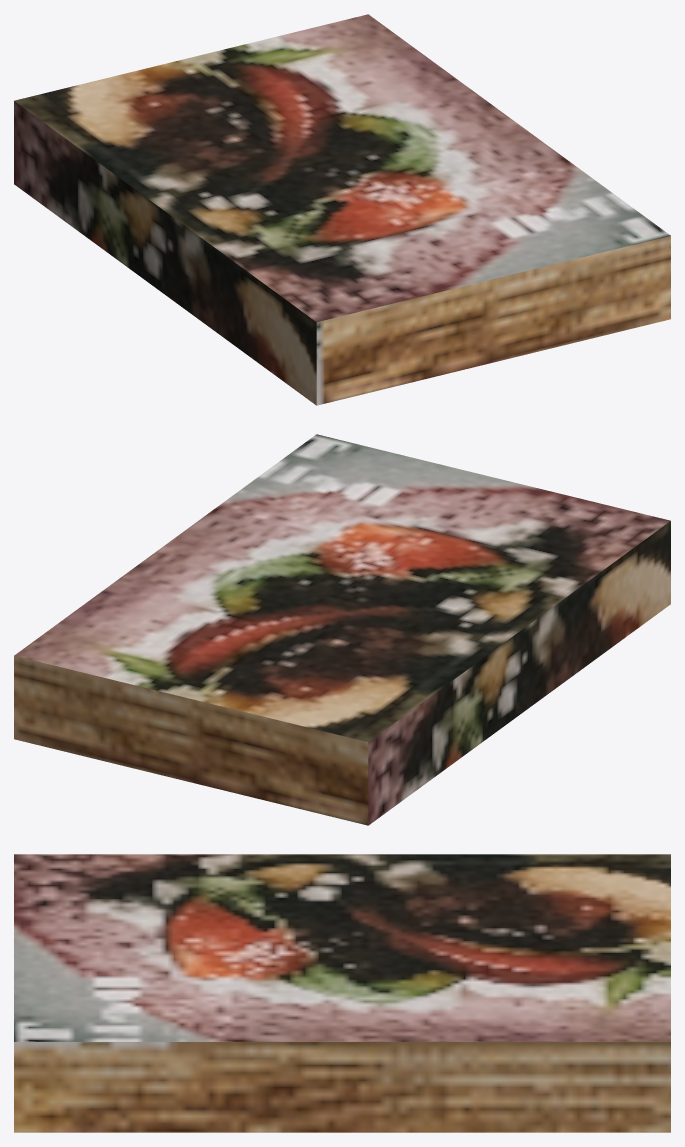
Rendered from Books_006-col.glb.
3 renders of one model, top to bottom at view 1: azimuth 30°, elevation 25°; view 2: azimuth 150°, elevation 25°; view 3: azimuth 270°, elevation 25°, orthographic. The views are drawn at different scales.
Visible parts, largest first — view 1: Books_006-col; view 2: Books_006-col; view 3: Books_006-col.
Part boxes in pixels (left/top/right/bottom): Books_006-col: left=14, top=14, right=670, bottom=405; Books_006-col: left=14, top=434, right=670, bottom=825; Books_006-col: left=14, top=854, right=670, bottom=1132.
Size of the model in its own units: 1.15 by 0.2591 by 1.7.
Materials: 1 (1 with a texture image).
